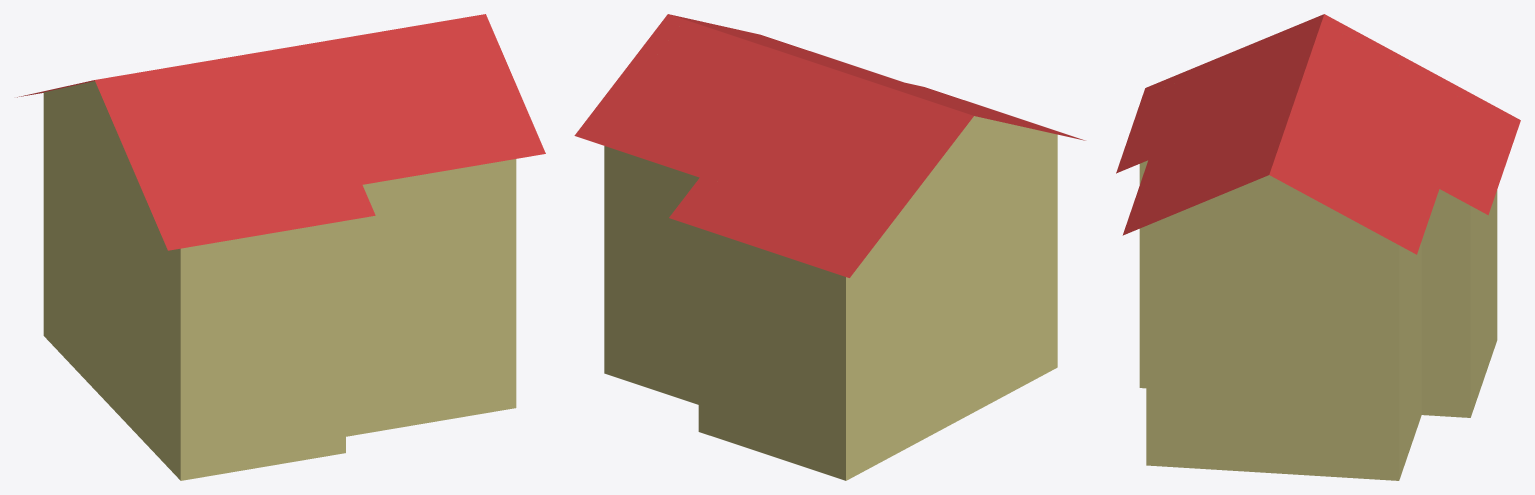
3 views of the same model, side by side, from view 1: azimuth 30°, elevation 25°; view 2: azimuth 150°, elevation 25°; view 3: azimuth 270°, elevation 25° (orthographic). The views are drawn at different scales.
Visible parts, largest first — view 1: group_5, group_3, group_4; view 2: group_5, group_3, group_4; view 3: group_5, group_3, group_4.
Boxes of the visible parts, bbox=[...] form: group_5: bbox=[43, 81, 516, 480]; group_3: bbox=[17, 14, 545, 249]; group_4: bbox=[95, 81, 375, 250]; group_5: bbox=[604, 116, 1057, 480]; group_3: bbox=[604, 14, 1055, 274]; group_4: bbox=[574, 14, 1085, 277]; group_5: bbox=[1139, 160, 1497, 480]; group_3: bbox=[1122, 14, 1496, 235]; group_4: bbox=[1116, 14, 1520, 254].
Bounding box in the file's own units: 15.34 × 14.5 × 12.13.
